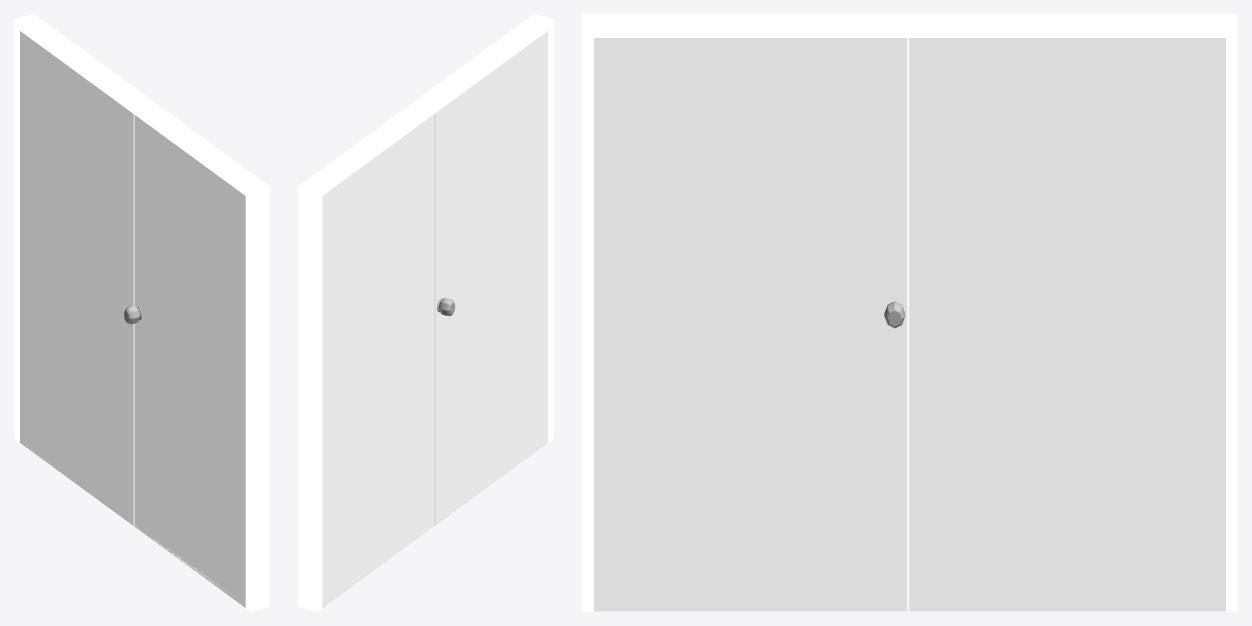
File: _old.8bf1a58d.gltf
The picture shows the model from 3 angles, left to right: view 1: azimuth 30°, elevation 25°; view 2: azimuth 150°, elevation 25°; view 3: azimuth 270°, elevation 25°; orthographic projection. The views are drawn at different scales.
Parts seen in each view (by area): view 1: door, trim; view 2: door, trim; view 3: door, trim.
Boxes of the visible parts, <box> form: door: <box>19,31,245,607</box>; trim: <box>14,14,269,611</box>; door: <box>322,31,548,607</box>; trim: <box>298,14,553,611</box>; door: <box>594,38,1225,611</box>; trim: <box>582,14,1237,611</box>.
Bounding box in the file's own units: 0.6063 × 6.01 × 6.1.
Materials: 3 (1 with a texture image).
